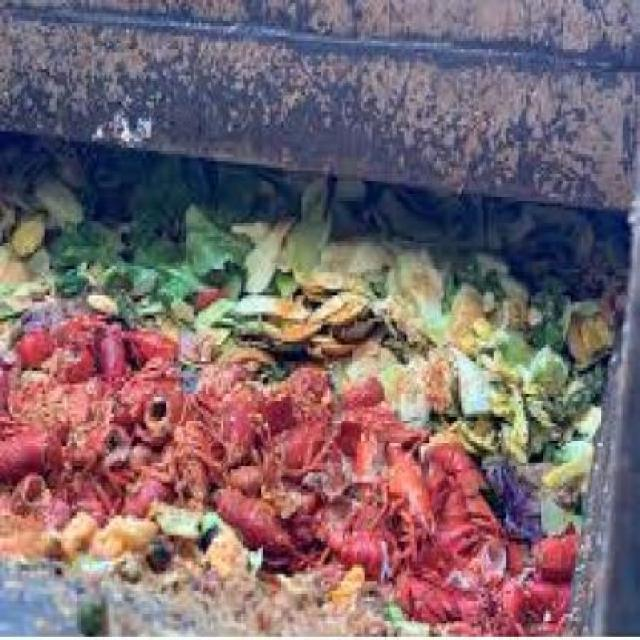garbage: (0, 137, 637, 636)
